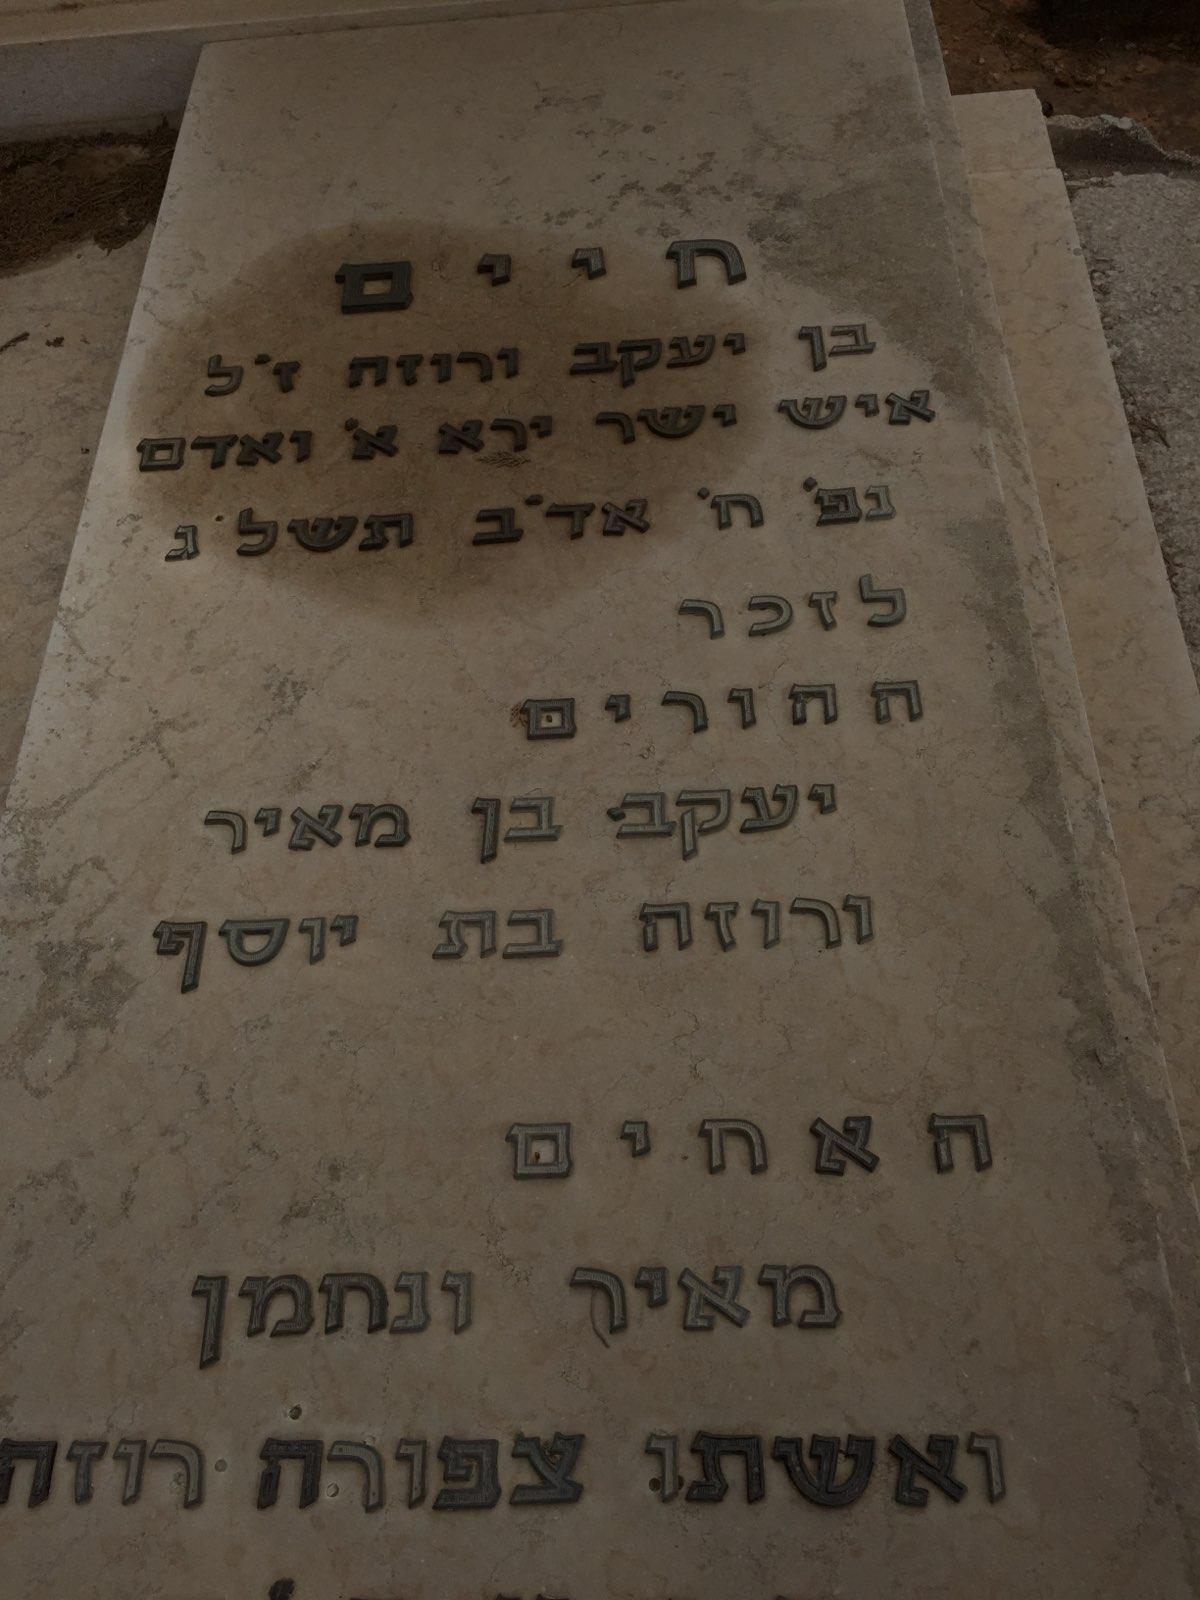vault: (14, 20, 1157, 1600)
